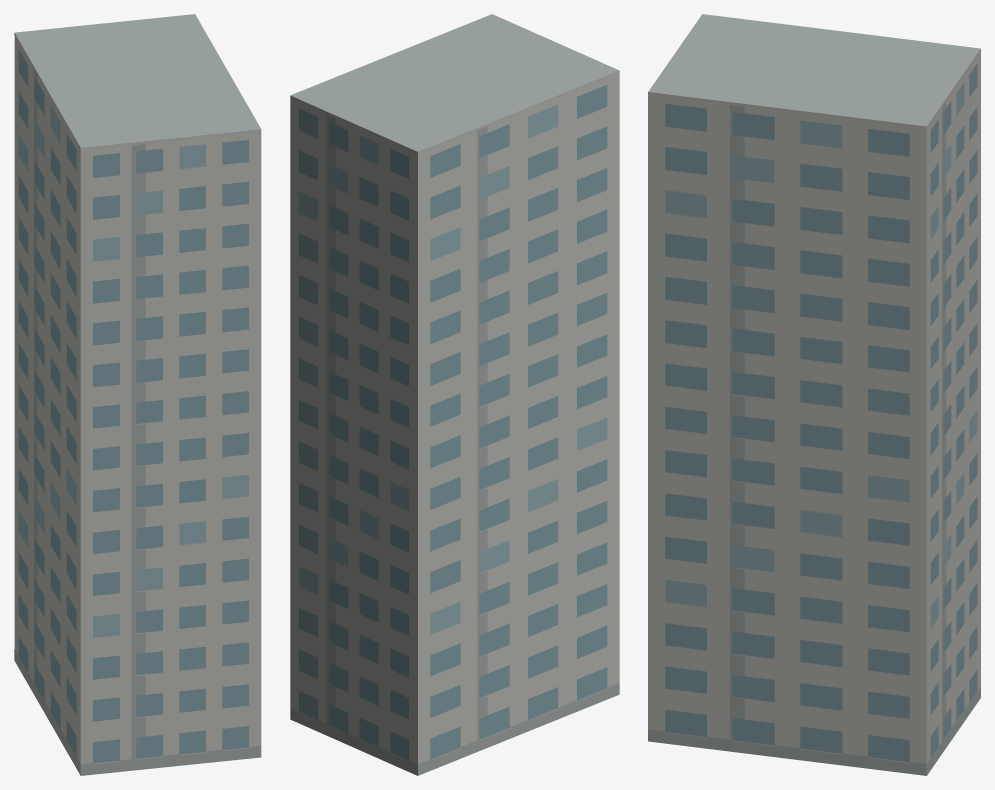
The model's file is residential-38034725-96a2-437e-9ae2-dc4221a75b9a.glb.
The picture shows the model from 3 angles, left to right: view 1: azimuth 30°, elevation 25°; view 2: azimuth 150°, elevation 25°; view 3: azimuth 270°, elevation 25°; orthographic projection. The views are drawn at different scales.
Parts seen in each view (by area): view 1: residential-38034725-96a2-437e-9ae2-dc4221a75b9a.tmp; view 2: residential-38034725-96a2-437e-9ae2-dc4221a75b9a.tmp; view 3: residential-38034725-96a2-437e-9ae2-dc4221a75b9a.tmp.
Part boxes in pixels (<box>): residential-38034725-96a2-437e-9ae2-dc4221a75b9a.tmp: <box>14,14,261,775</box>; residential-38034725-96a2-437e-9ae2-dc4221a75b9a.tmp: <box>290,14,619,775</box>; residential-38034725-96a2-437e-9ae2-dc4221a75b9a.tmp: <box>648,14,980,775</box>.
Bounding box in the file's own units: 21.18 × 57 × 26.47.
